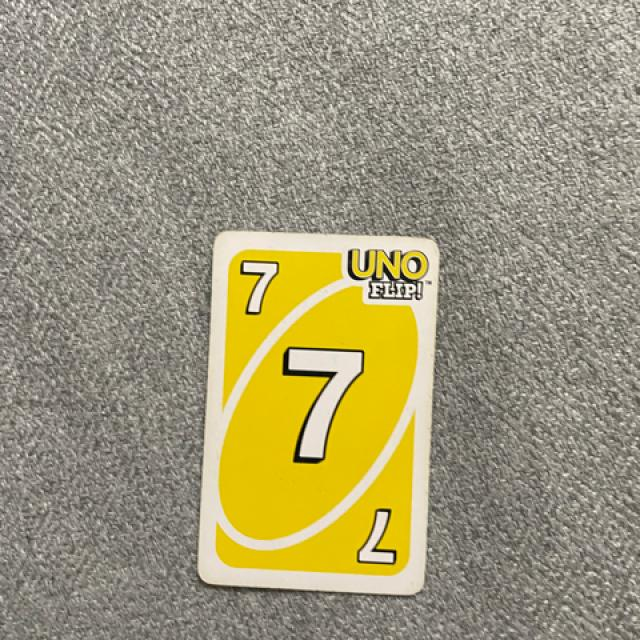lyellow-7: (222, 243, 294, 325)
